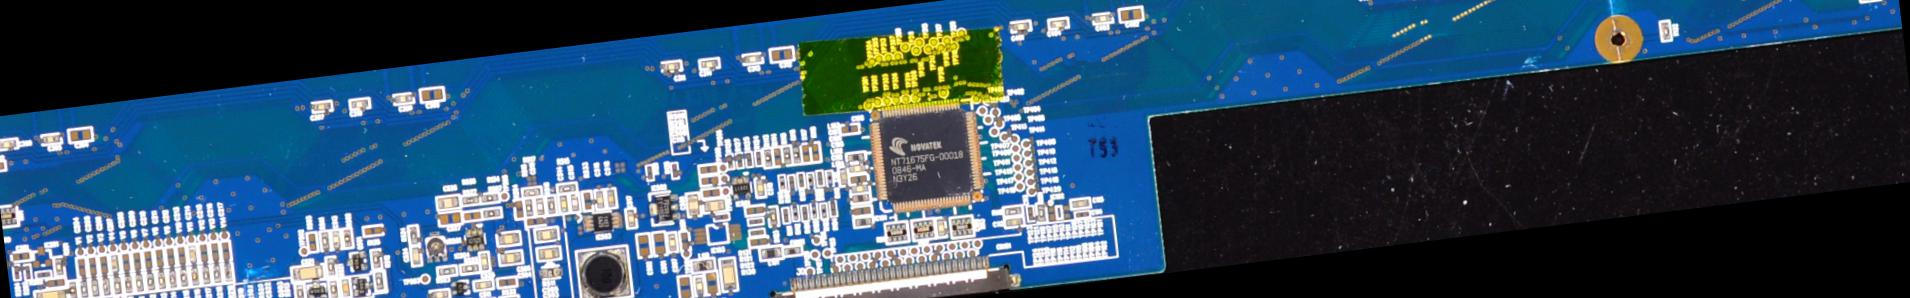Capacitor Jumper: (294, 264, 323, 281), (720, 259, 736, 289), (1119, 7, 1143, 22), (439, 212, 460, 225), (703, 199, 725, 213), (637, 235, 650, 257), (498, 232, 519, 246), (536, 227, 557, 241), (538, 247, 559, 260), (69, 128, 90, 141), (771, 47, 792, 61), (687, 195, 699, 217), (653, 232, 665, 254), (705, 271, 717, 293), (420, 89, 442, 101), (678, 277, 692, 297), (37, 288, 67, 297), (437, 196, 458, 208), (499, 252, 520, 264), (393, 94, 412, 105), (350, 99, 368, 109), (742, 54, 761, 63), (1093, 15, 1112, 24), (1050, 18, 1067, 29), (839, 124, 858, 134), (605, 190, 615, 208), (121, 253, 130, 271), (99, 255, 108, 274), (132, 252, 141, 270), (626, 209, 636, 227), (854, 217, 872, 226), (41, 134, 60, 144), (313, 102, 331, 112), (559, 193, 568, 213), (594, 191, 604, 208), (166, 247, 174, 266), (411, 247, 420, 264), (1072, 198, 1089, 208), (936, 219, 945, 236), (1005, 218, 1022, 227), (0, 140, 17, 150), (663, 61, 680, 71), (700, 58, 717, 68), (536, 197, 544, 215), (188, 244, 196, 263), (331, 230, 340, 248), (341, 280, 350, 298), (474, 281, 492, 289), (570, 193, 579, 210), (77, 259, 85, 276), (211, 242, 219, 259), (222, 242, 230, 259), (48, 279, 65, 287), (850, 185, 867, 193), (480, 253, 488, 270), (668, 234, 676, 251), (1012, 22, 1029, 30), (12, 252, 30, 259), (111, 254, 118, 272), (156, 249, 163, 268), (178, 247, 185, 265), (756, 178, 764, 196), (431, 289, 449, 297), (145, 251, 152, 268), (200, 244, 207, 262), (696, 277, 703, 294), (849, 164, 865, 172), (89, 259, 96, 274), (1076, 210, 1089, 218), (840, 169, 847, 185), (0, 161, 6, 172)
IC: (865, 95, 987, 214)
Resistor Jumper: (764, 148, 774, 168), (437, 266, 457, 276), (408, 227, 419, 244), (328, 280, 339, 297), (558, 184, 576, 193), (482, 208, 501, 218), (320, 232, 330, 251), (1662, 21, 1670, 40), (792, 146, 802, 163), (698, 165, 717, 174), (462, 195, 479, 204), (700, 175, 717, 185), (463, 210, 480, 220), (145, 272, 155, 289), (223, 263, 231, 282), (769, 208, 777, 227), (374, 270, 382, 289), (749, 237, 769, 246), (1005, 206, 1022, 215), (774, 147, 782, 165), (583, 192, 592, 210), (702, 189, 720, 197), (526, 217, 544, 225), (212, 264, 220, 282), (201, 265, 210, 283), (326, 258, 335, 276), (782, 147, 791, 164), (802, 145, 810, 162), (482, 193, 499, 202), (547, 196, 555, 213), (525, 199, 534, 217), (344, 230, 352, 247), (79, 281, 88, 298), (90, 280, 99, 297), (168, 270, 177, 287), (745, 206, 763, 214), (372, 251, 380, 268), (748, 229, 765, 237), (460, 264, 477, 272), (69, 281, 78, 297), (124, 276, 133, 292), (113, 277, 122, 293), (515, 199, 523, 218), (135, 274, 143, 292), (157, 270, 164, 288), (180, 269, 188, 287), (1038, 204, 1045, 223), (295, 283, 305, 297), (524, 189, 541, 196), (55, 259, 62, 276), (815, 172, 823, 186), (748, 218, 763, 226), (191, 268, 199, 283), (830, 201, 837, 217), (726, 154, 733, 169), (736, 153, 743, 168), (646, 165, 653, 180), (778, 175, 786, 190), (797, 173, 804, 187), (791, 207, 798, 221), (810, 204, 817, 219), (782, 208, 789, 223), (820, 203, 827, 218), (802, 207, 809, 221), (812, 144, 819, 161), (745, 153, 753, 167), (671, 163, 678, 176), (23, 266, 30, 280), (788, 175, 795, 189), (806, 173, 812, 187), (37, 271, 50, 277), (754, 152, 760, 164), (13, 266, 19, 279), (827, 172, 832, 184)
